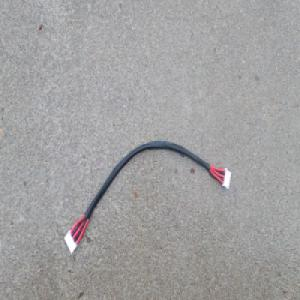Wire: (62, 137, 232, 256)
